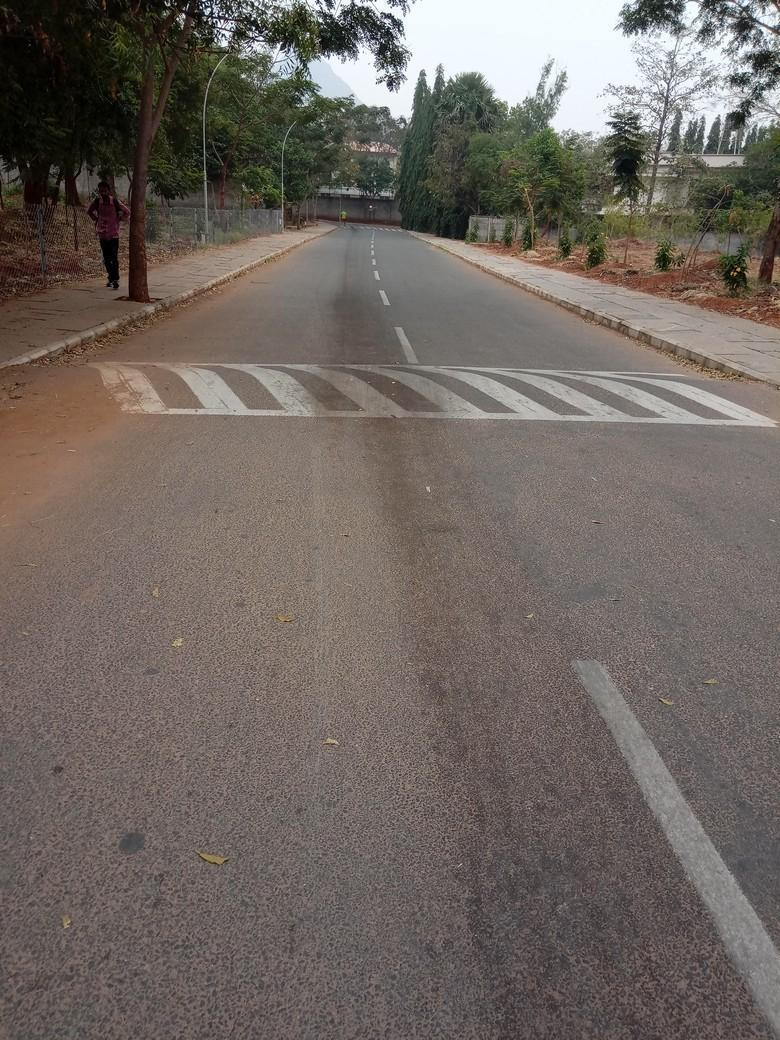speedbreaker: (67, 350, 780, 440)
